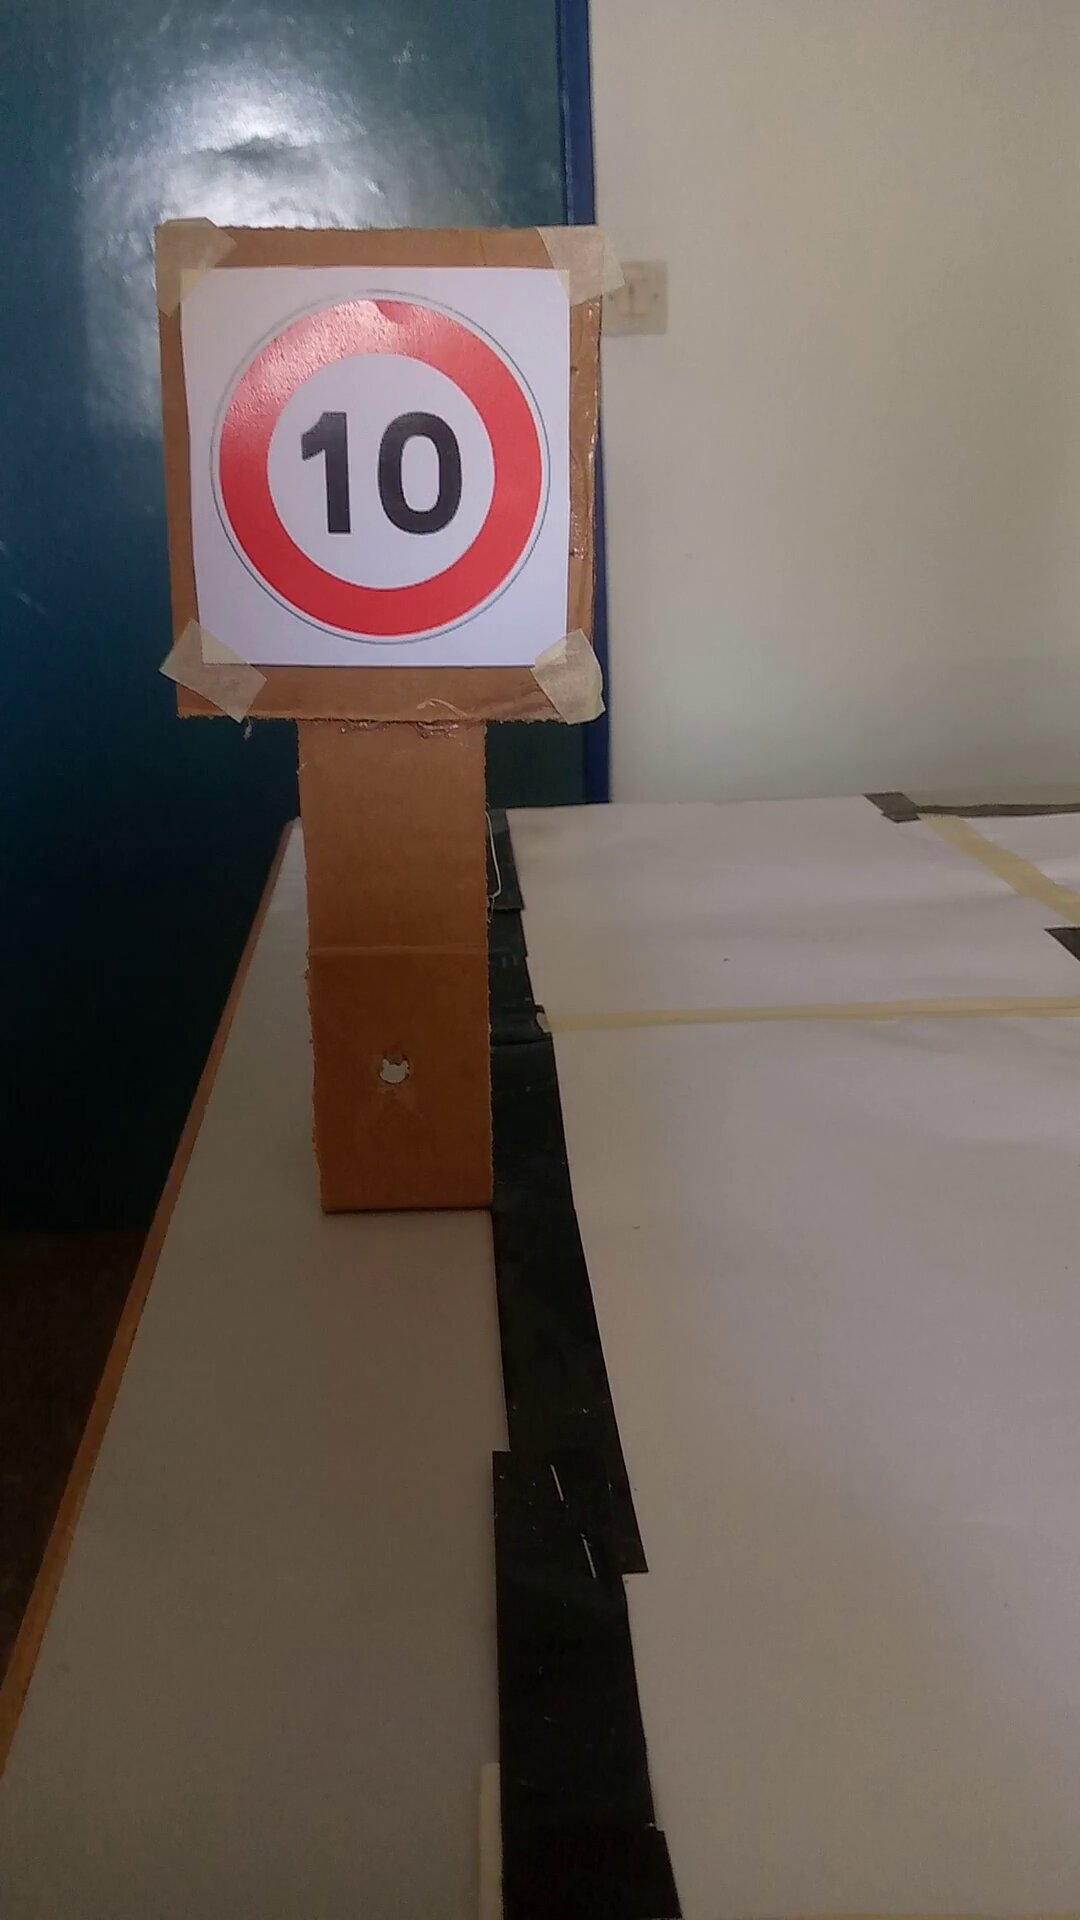panel011: (173, 251, 578, 680)
